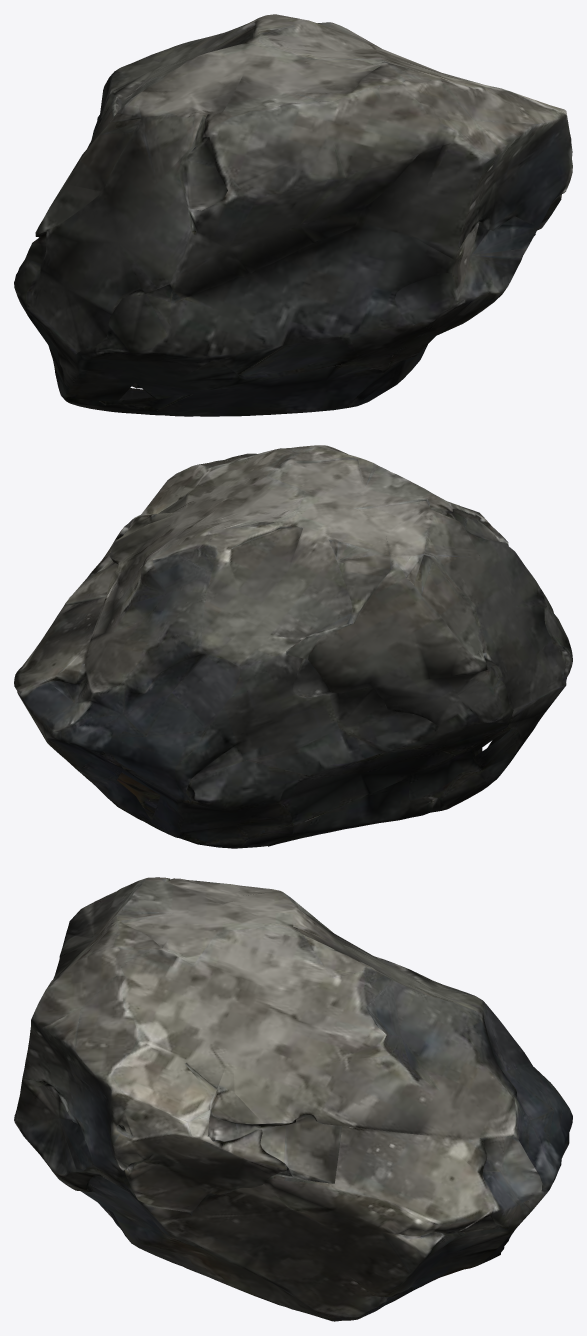
File: rock1.glb
3 renders of one model, top to bottom at view 1: azimuth 30°, elevation 25°; view 2: azimuth 150°, elevation 25°; view 3: azimuth 270°, elevation 25°, orthographic. The views are drawn at different scales.
Bounding box in the file's own units: 2.46 × 1.62 × 2.43.
1 material, 1 textured.
